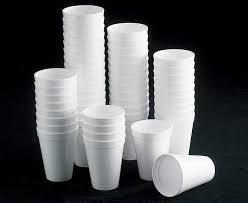Plastic cup: (2, 0, 248, 203)
